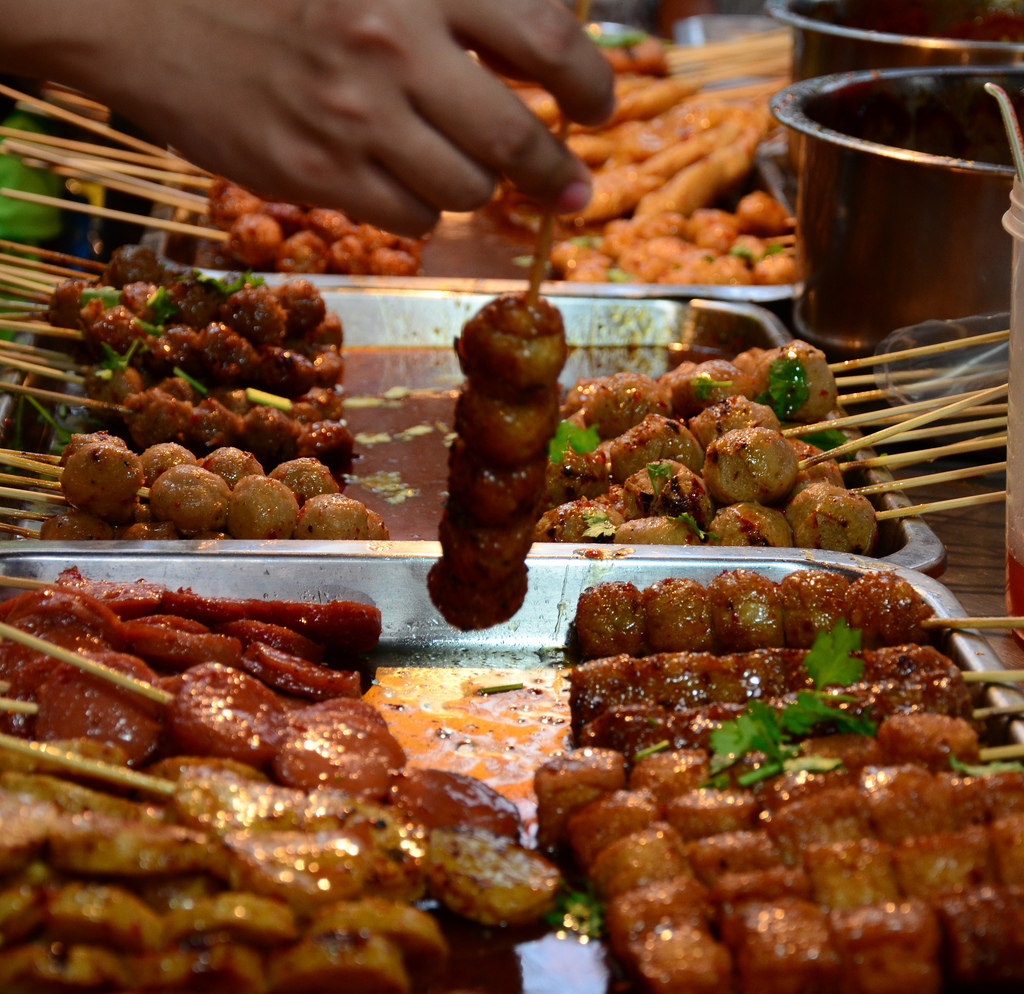meatballs: (12, 581, 500, 994), (576, 593, 1022, 994), (81, 261, 378, 539), (569, 364, 863, 554), (450, 296, 561, 622)
